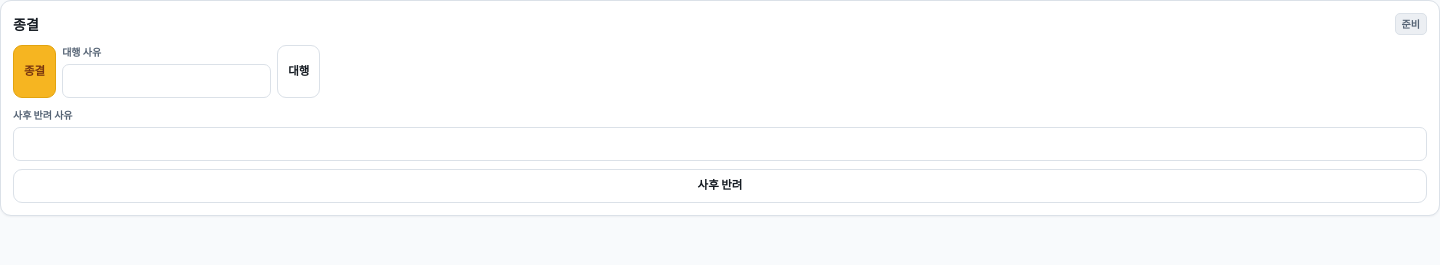
ApprovalCompose › drives author finalization and policy-gated post-finalization rejection
Click the button "종결": [35, 72] box 13,45 -> 56,98
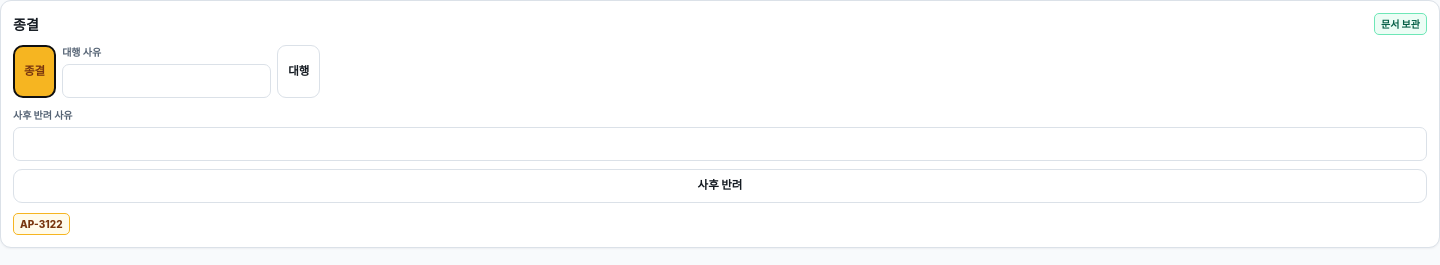
Now the text "문서 보관" is shown, box 1374,13 -> 1427,35
Now the text "AP-3122" is shown, box 13,213 -> 70,235
In the field labelled "사후 반려 사유": [720, 144] box 13,127 -> 1427,161, type "법정 반려"
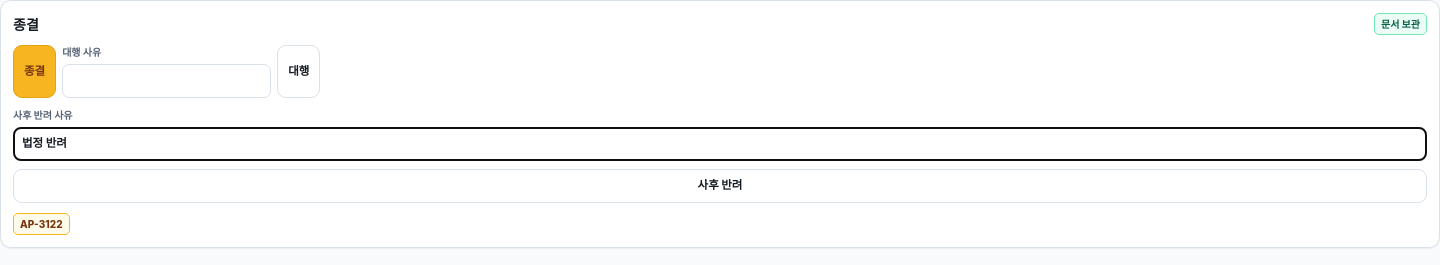
Click the button "사후 반려": [720, 186] box 13,169 -> 1427,203
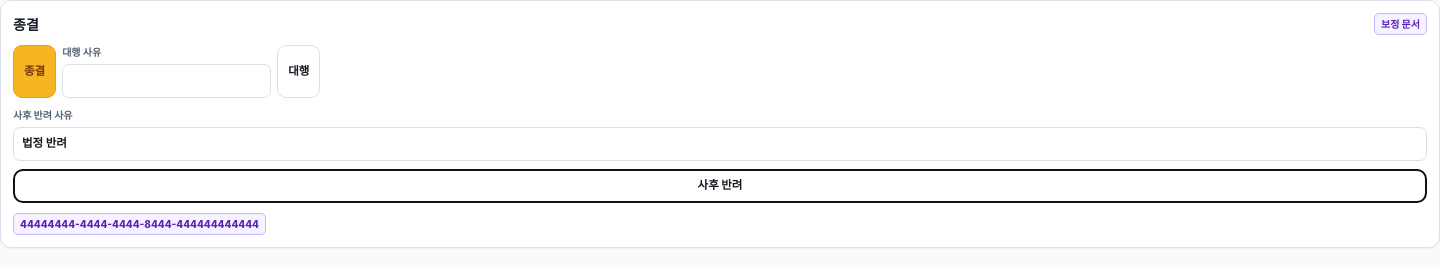
Now the text "보정 문서" is shown, box 1374,13 -> 1427,35
